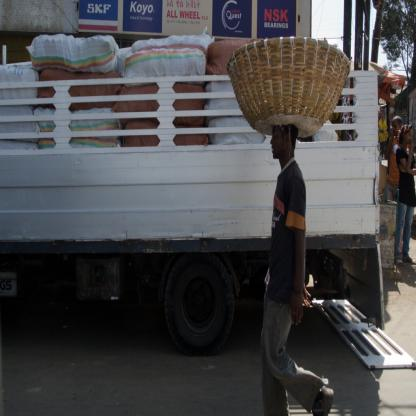Truck: (0, 41, 393, 371)
